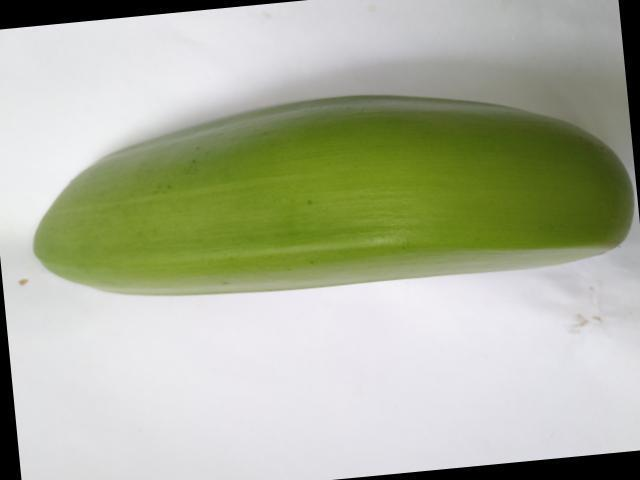freshunripe: (24, 81, 639, 305)
